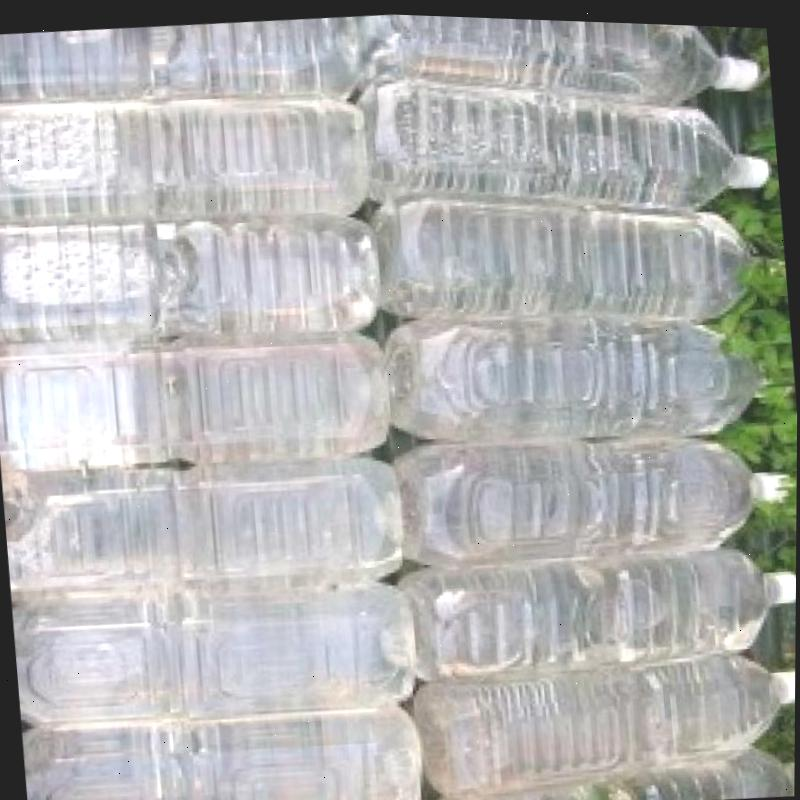botella: (350, 50, 780, 237), (10, 548, 422, 735), (366, 169, 789, 345), (386, 406, 798, 584), (1, 434, 406, 615), (399, 522, 797, 699), (376, 288, 792, 457), (0, 310, 395, 487), (0, 191, 390, 367), (406, 632, 796, 800), (0, 74, 374, 248), (20, 674, 436, 800), (348, 10, 767, 134), (0, 2, 366, 125), (427, 714, 796, 800)
